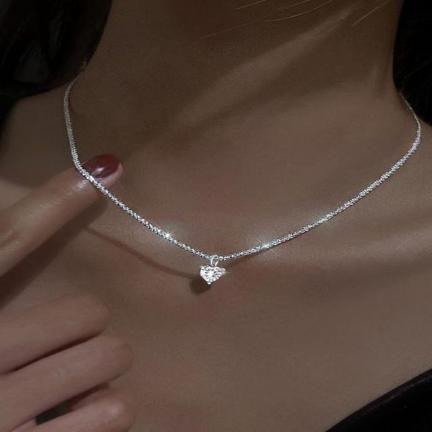Nail: (83, 153, 119, 179)
